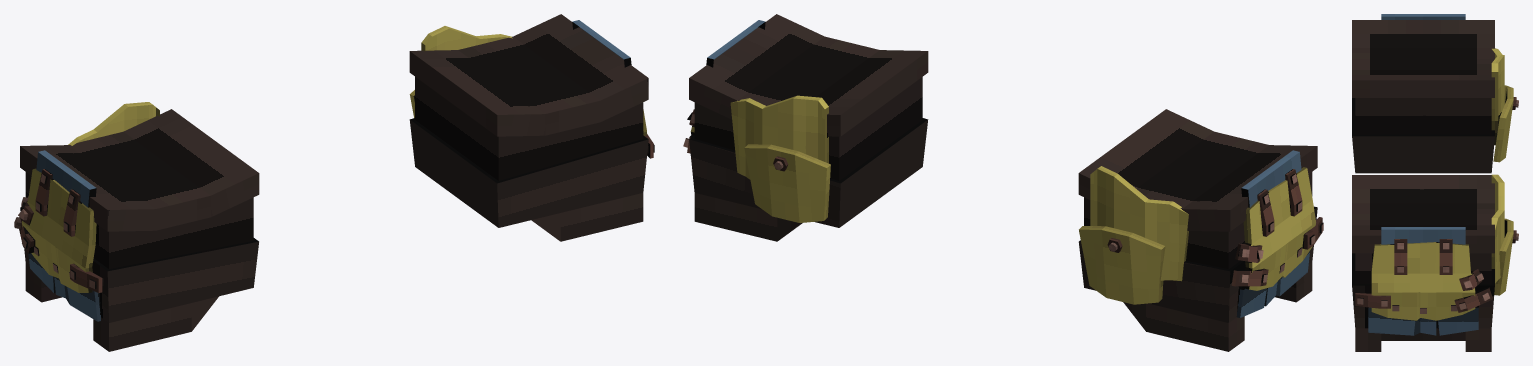
3 renders of one model, left to right at view 1: azimuth 30°, elevation 25°; view 2: azimuth 150°, elevation 25°; view 3: azimuth 270°, elevation 25°, orthographic. The views are drawn at different scales.
Visible parts, largest first — view 1: left_arm, right_arm; view 2: left_arm, right_arm; view 3: right_arm, left_arm.
Boxes of the visible parts, x1,y1,x2,y2 form: left_arm: [14, 102, 259, 351]; right_arm: [409, 14, 654, 241]; left_arm: [1078, 109, 1323, 351]; right_arm: [683, 14, 928, 241]; right_arm: [1352, 174, 1518, 351]; left_arm: [1352, 14, 1518, 173].
Size of the model in its own units: 1.09 by 0.2822 by 0.3373.
Materials: 1 (1 with a texture image).
